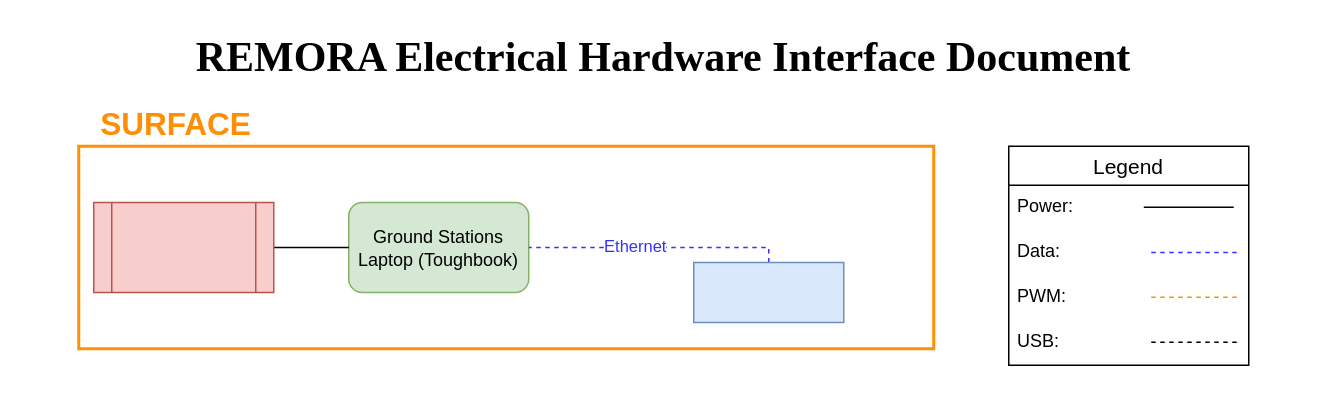
Image size: 1326x395. Some labels were removed from this diagram. The box of each missing label's shape, as (x1, y1, x2, y2) in pixels:
External Power: (92, 201, 274, 292)
Tether Connector and Spool: (692, 261, 844, 322)
